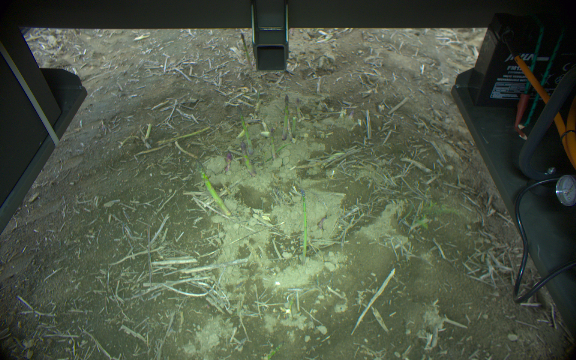aspa: (195, 161, 232, 217), (299, 187, 310, 261), (278, 92, 294, 139), (237, 142, 254, 174), (237, 104, 251, 142), (239, 31, 252, 67), (266, 124, 276, 160), (225, 148, 233, 177), (290, 113, 298, 140), (295, 97, 302, 120)
